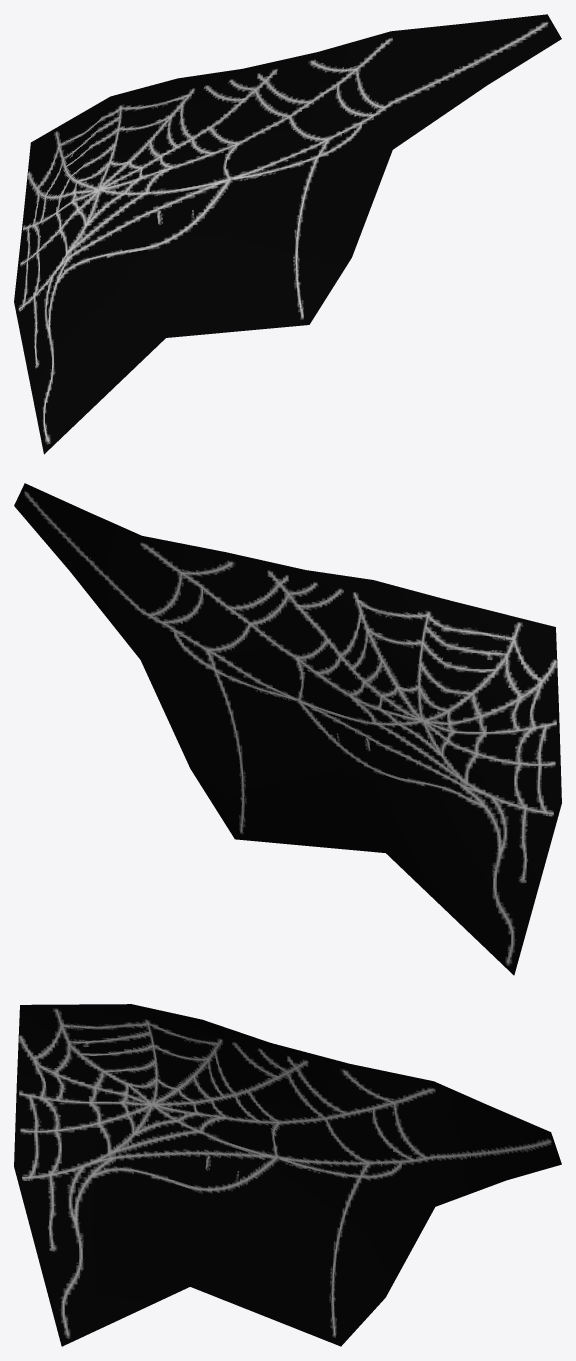
File: SM_Cobwebs_13.fbx
The picture shows the model from 3 angles, top to bottom: view 1: azimuth 30°, elevation 25°; view 2: azimuth 150°, elevation 25°; view 3: azimuth 330°, elevation 25°; orthographic projection. The views are drawn at different scales.
Parts seen in each view (by area): view 1: SM_Cobwebs_13; view 2: SM_Cobwebs_13; view 3: SM_Cobwebs_13.
Boxes of the visible parts, x1,y1,x2,y2 form: SM_Cobwebs_13: (14, 14, 561, 454); SM_Cobwebs_13: (14, 483, 561, 975); SM_Cobwebs_13: (14, 1004, 561, 1346).
Bounding box in the file's own units: 124 × 76.39 × 14.89.
Materials: 1 (1 with a texture image).
